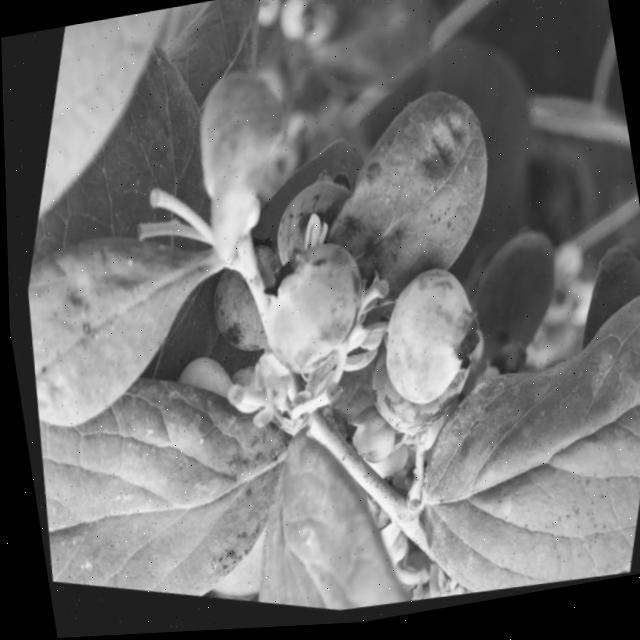RipeBlueBerry: (232, 227, 382, 401), (182, 237, 283, 371), (253, 165, 362, 287)
Semi-RipeBlueBerry: (352, 258, 495, 429)
